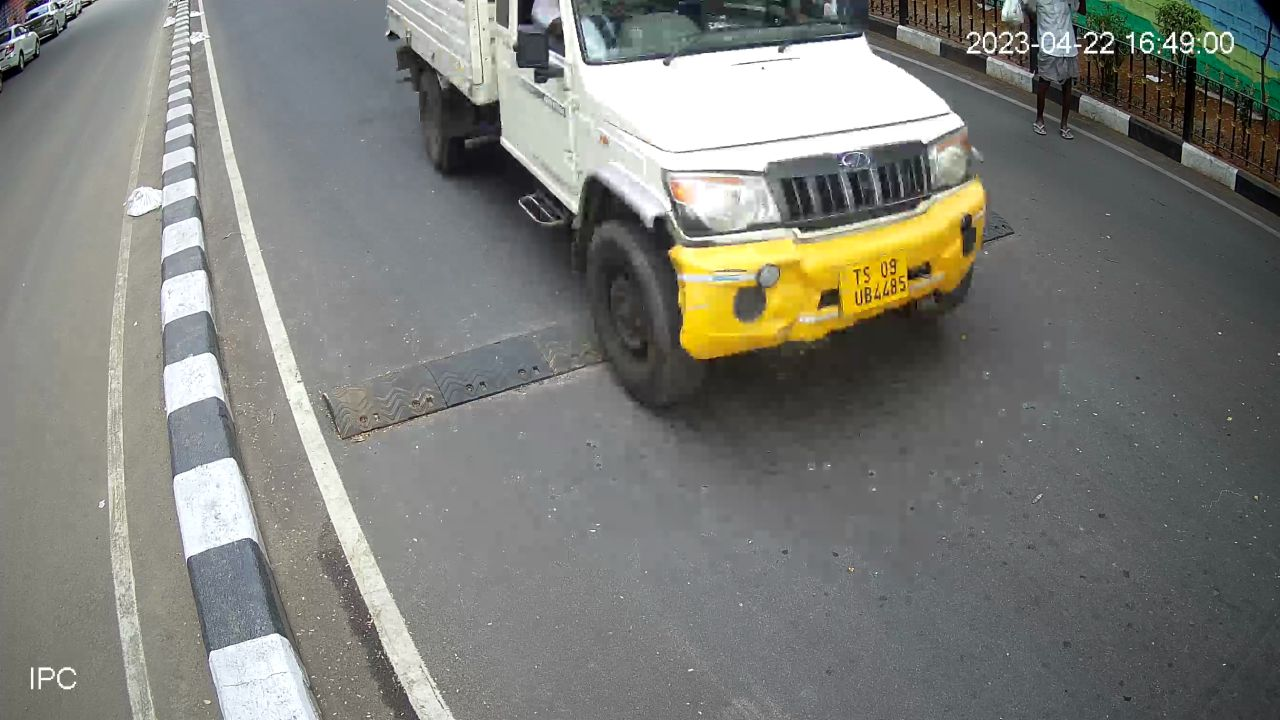license_plate: (836, 246, 913, 326)
